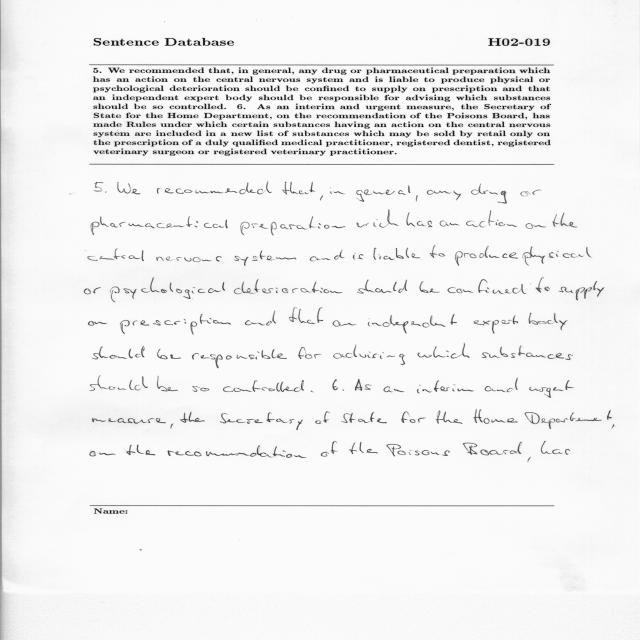word: (110, 278, 225, 302), (91, 216, 228, 235), (120, 314, 231, 334), (240, 216, 346, 235), (192, 349, 287, 368), (168, 445, 306, 458), (368, 314, 457, 333), (234, 280, 342, 295), (157, 182, 272, 195), (220, 413, 303, 431), (333, 345, 405, 365), (523, 246, 592, 266), (482, 345, 573, 360), (525, 412, 602, 429), (455, 246, 518, 266), (447, 279, 531, 294), (234, 250, 296, 266), (223, 380, 304, 392), (357, 185, 411, 202), (90, 376, 148, 391), (466, 211, 517, 228), (559, 281, 604, 300), (417, 343, 470, 359), (474, 315, 518, 334), (529, 380, 574, 398), (356, 210, 399, 228), (386, 444, 450, 456), (463, 442, 522, 455), (417, 381, 474, 394), (471, 184, 507, 204), (529, 313, 568, 331), (357, 280, 407, 294), (93, 347, 145, 360), (88, 249, 144, 261), (474, 409, 518, 424), (373, 248, 420, 260), (289, 308, 323, 324), (341, 412, 387, 423), (484, 378, 518, 392), (245, 311, 276, 326), (282, 182, 316, 195), (541, 441, 570, 455), (156, 256, 222, 262), (310, 250, 345, 261), (552, 213, 577, 228), (92, 418, 166, 423), (407, 213, 433, 227), (437, 410, 463, 424), (349, 442, 378, 454), (427, 190, 461, 200), (157, 376, 178, 391), (401, 411, 426, 423), (127, 445, 156, 455), (118, 182, 141, 194), (298, 347, 321, 359), (180, 412, 205, 423), (321, 441, 338, 457), (419, 281, 440, 293), (157, 349, 181, 359), (536, 278, 550, 293), (355, 379, 372, 391), (430, 245, 445, 258), (315, 411, 330, 424), (520, 190, 542, 197), (333, 321, 357, 327), (90, 451, 116, 456), (526, 223, 547, 229), (384, 387, 405, 393), (440, 221, 460, 227), (84, 288, 101, 295), (607, 411, 614, 428), (192, 386, 209, 392), (94, 182, 103, 192), (89, 321, 107, 326), (332, 379, 338, 390), (353, 253, 363, 259), (330, 191, 345, 194), (527, 457, 531, 462), (320, 196, 323, 201), (171, 424, 174, 429), (416, 195, 418, 202), (311, 391, 314, 393), (342, 389, 344, 391), (105, 191, 106, 193)
